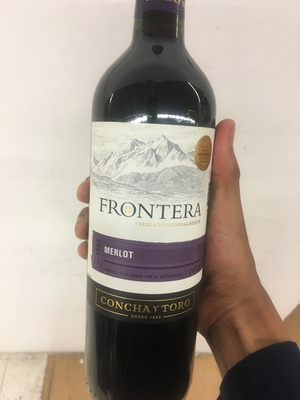frontera merlot: (82, 14, 220, 400)
